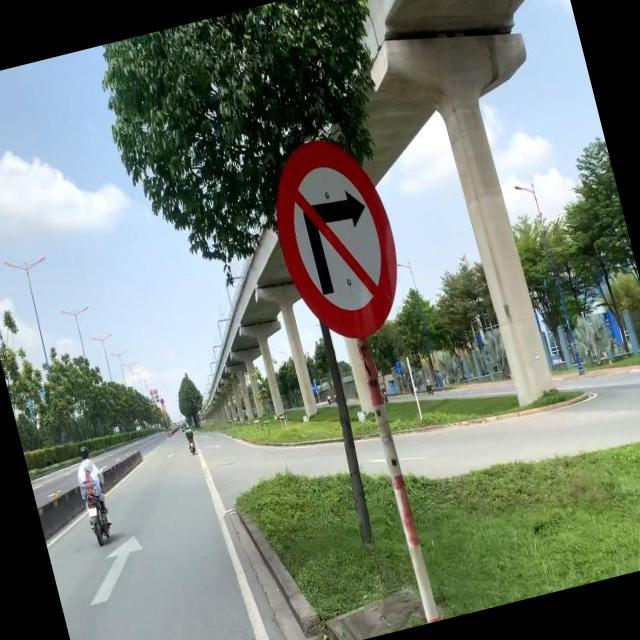P-123b: (256, 127, 414, 354)
